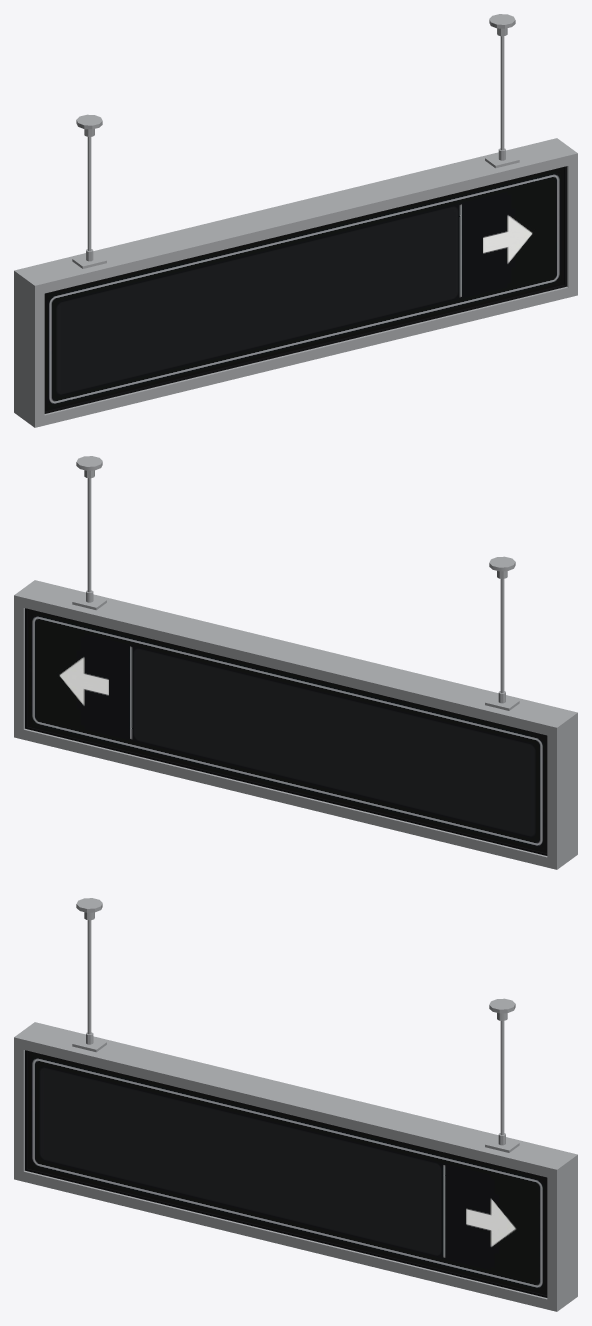
Rendered from gteki_sign_hanging_black_right.glb.
The picture shows the model from 3 angles, top to bottom: view 1: azimuth 30°, elevation 25°; view 2: azimuth 150°, elevation 25°; view 3: azimuth 330°, elevation 25°; orthographic projection.
Visible parts, largest first — view 1: VIS_body; view 2: VIS_body; view 3: VIS_body.
Part boxes in pixels (x1,y1,x2,y2): VIS_body: (14,14,577,427); VIS_body: (14,456,577,869); VIS_body: (14,898,577,1311).
Size of the model in its own units: 1.8 by 0.9 by 0.12.
3 materials, 3 textured.
